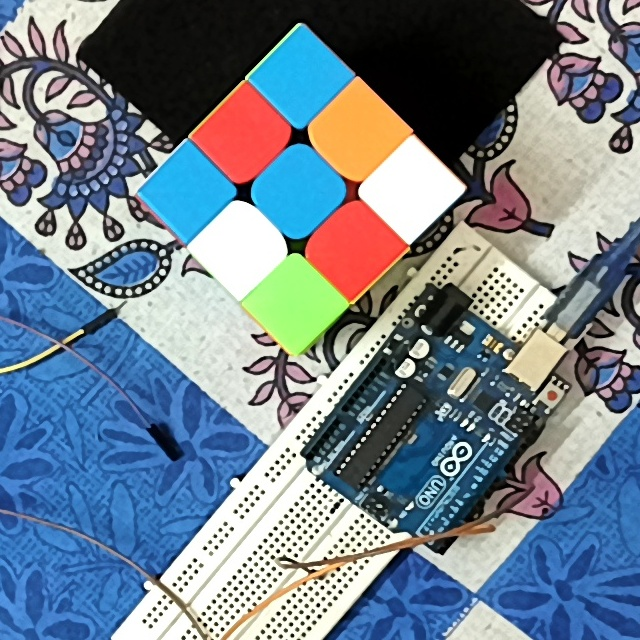tile: (379, 164, 438, 217), (272, 160, 325, 217), (273, 274, 322, 331), (331, 106, 384, 157), (217, 112, 269, 163), (326, 226, 377, 278), (216, 219, 263, 275), (279, 50, 323, 103), (162, 171, 210, 215)
